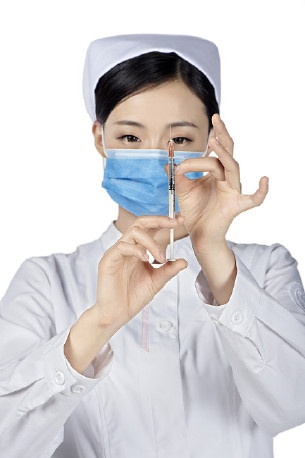Mask: (102, 116, 209, 223)
